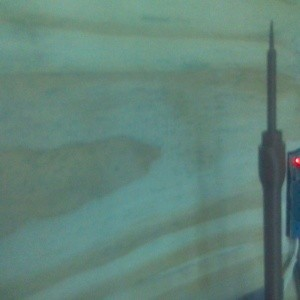solder: (258, 19, 287, 300)
